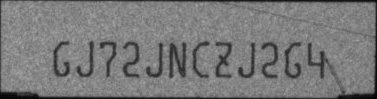2: (260, 40, 280, 77), (121, 41, 139, 78)
4: (307, 41, 324, 80)
7: (100, 40, 116, 79)
C: (192, 38, 208, 78)
G: (52, 41, 71, 77), (284, 41, 302, 79)
J: (76, 39, 95, 78), (145, 42, 164, 77), (237, 41, 255, 77)
N: (168, 40, 188, 77)
Z: (214, 40, 233, 78)
